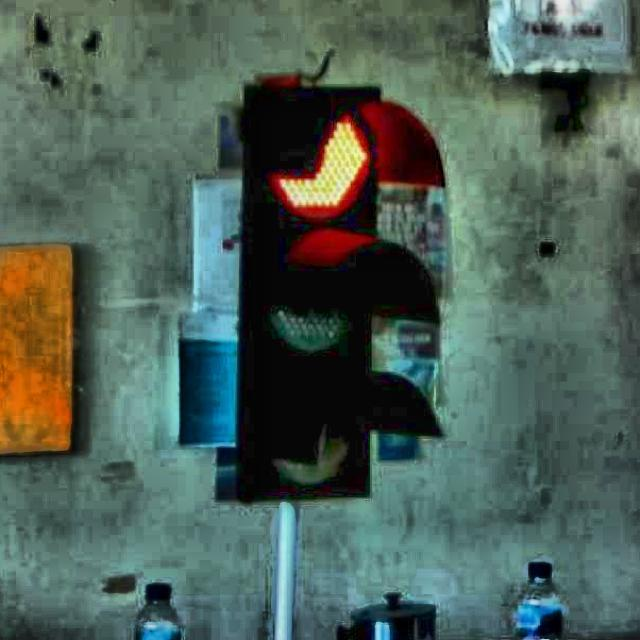red: (234, 71, 385, 511)
